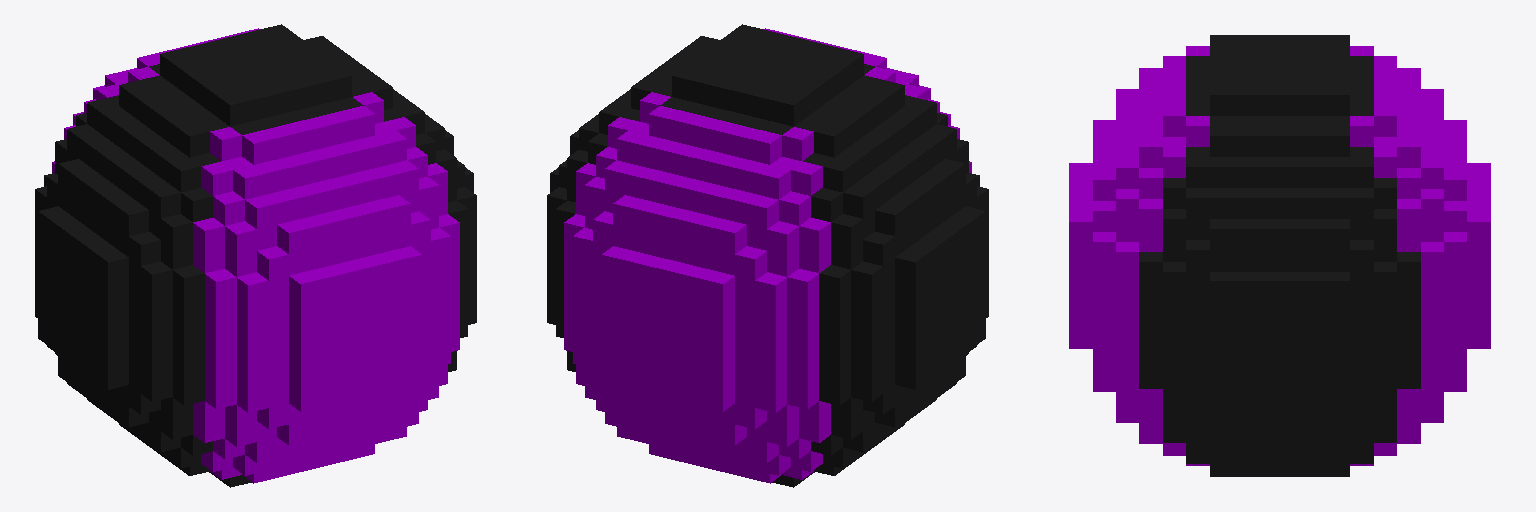
3 views of the same model, side by side, from view 1: azimuth 30°, elevation 25°; view 2: azimuth 150°, elevation 25°; view 3: azimuth 270°, elevation 25° (orthographic).
Parts seen in each view (by area): view 1: object 1; view 2: object 1; view 3: object 1.
Part boxes in pixels (x1,y1,x2,y2): object 1: (35,24,476,487); object 1: (547,24,988,487); object 1: (1069,35,1490,476).
Size of the model in its own units: 1.8 by 1.8 by 1.8.
Materials: 1 (1 with a texture image).